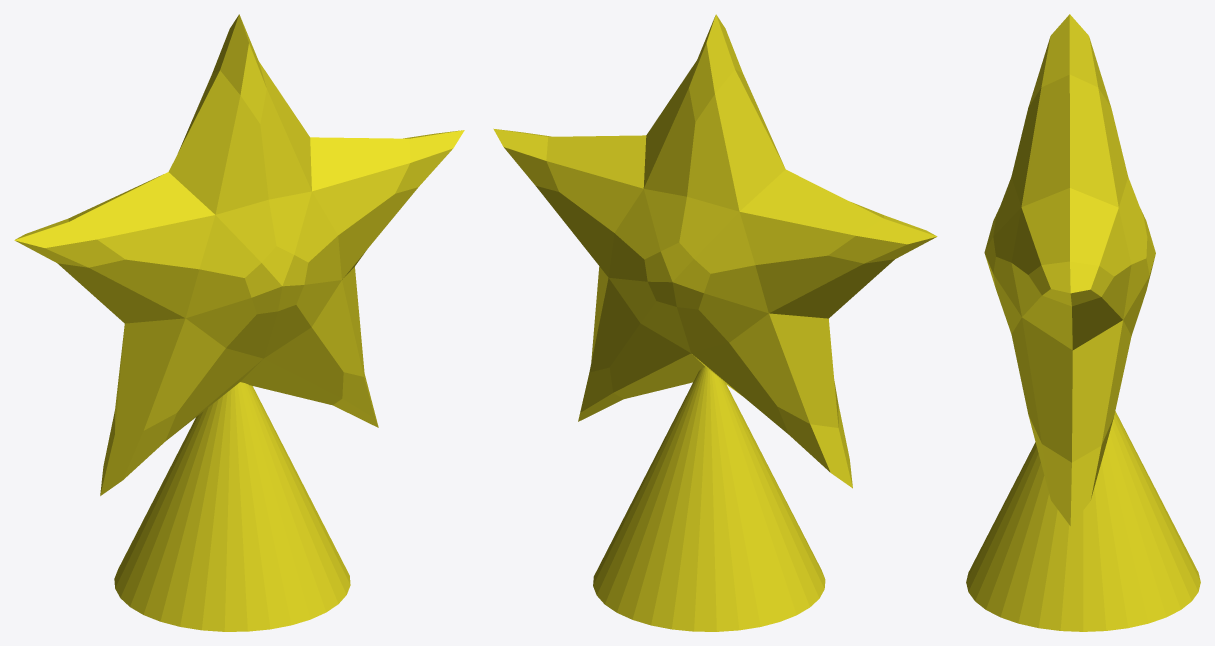
File: TreeStar.glb
The picture shows the model from 3 angles, left to right: view 1: azimuth 30°, elevation 25°; view 2: azimuth 150°, elevation 25°; view 3: azimuth 270°, elevation 25°; orthographic projection.
Parts seen in each view (by area): view 1: Circle, Cone; view 2: Circle, Cone; view 3: Circle, Cone.
Part boxes in pixels (<box>): Circle: <box>14,14,464,495</box>; Cone: <box>114,382,350,631</box>; Circle: <box>493,14,937,488</box>; Cone: <box>593,367,825,631</box>; Circle: <box>984,14,1155,526</box>; Cone: <box>966,411,1200,631</box>.
Bounding box in the file's own units: 0.4279 × 0.5193 × 0.1944.
